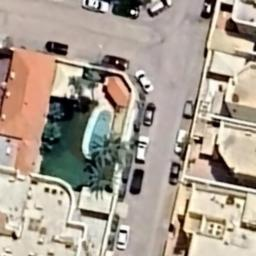SUV: (145, 0, 173, 18), (136, 134, 151, 164)
sedan: (133, 67, 156, 96), (100, 52, 131, 72), (112, 2, 141, 20), (128, 168, 145, 196), (79, 0, 112, 14), (140, 103, 158, 127), (116, 224, 130, 252), (182, 96, 196, 123), (168, 161, 182, 187), (199, 0, 216, 20)
van: (42, 39, 72, 58), (174, 127, 189, 157)
